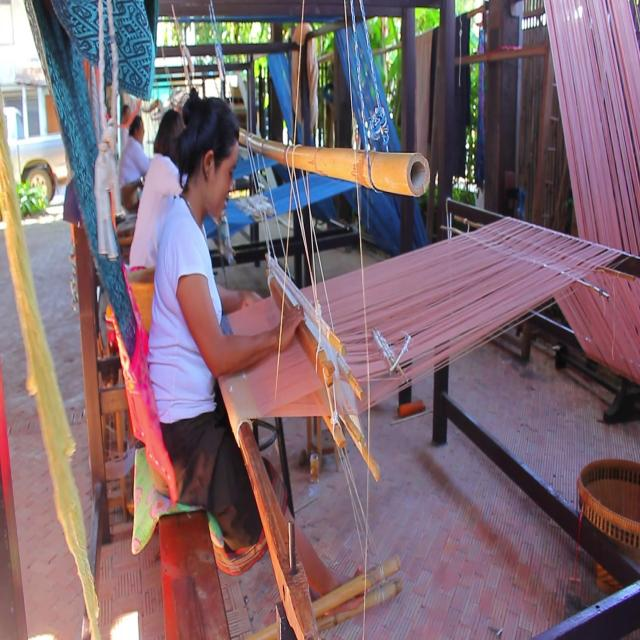not-gloved: (272, 302, 305, 354)
